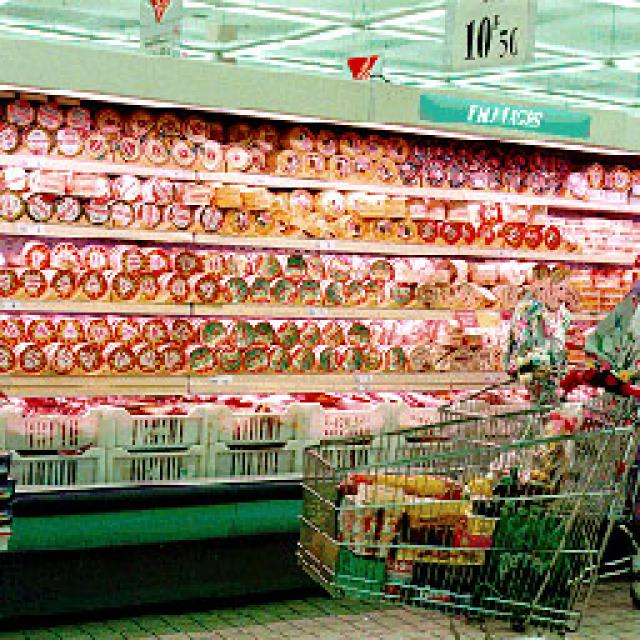cheese: (78, 265, 105, 295)
cheeses: (0, 95, 580, 195), (0, 165, 575, 250), (2, 235, 490, 308)
floor -X: (0, 552, 635, 638)
showcase occluded: (0, 33, 638, 617)
sign: (440, 0, 532, 70)
trolley: (290, 375, 630, 635)
